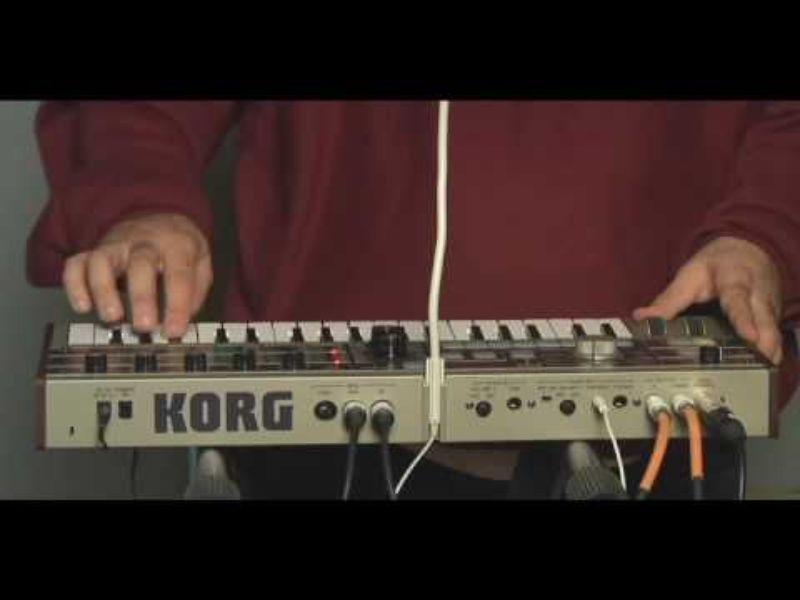synthesizer: (23, 298, 774, 471)
